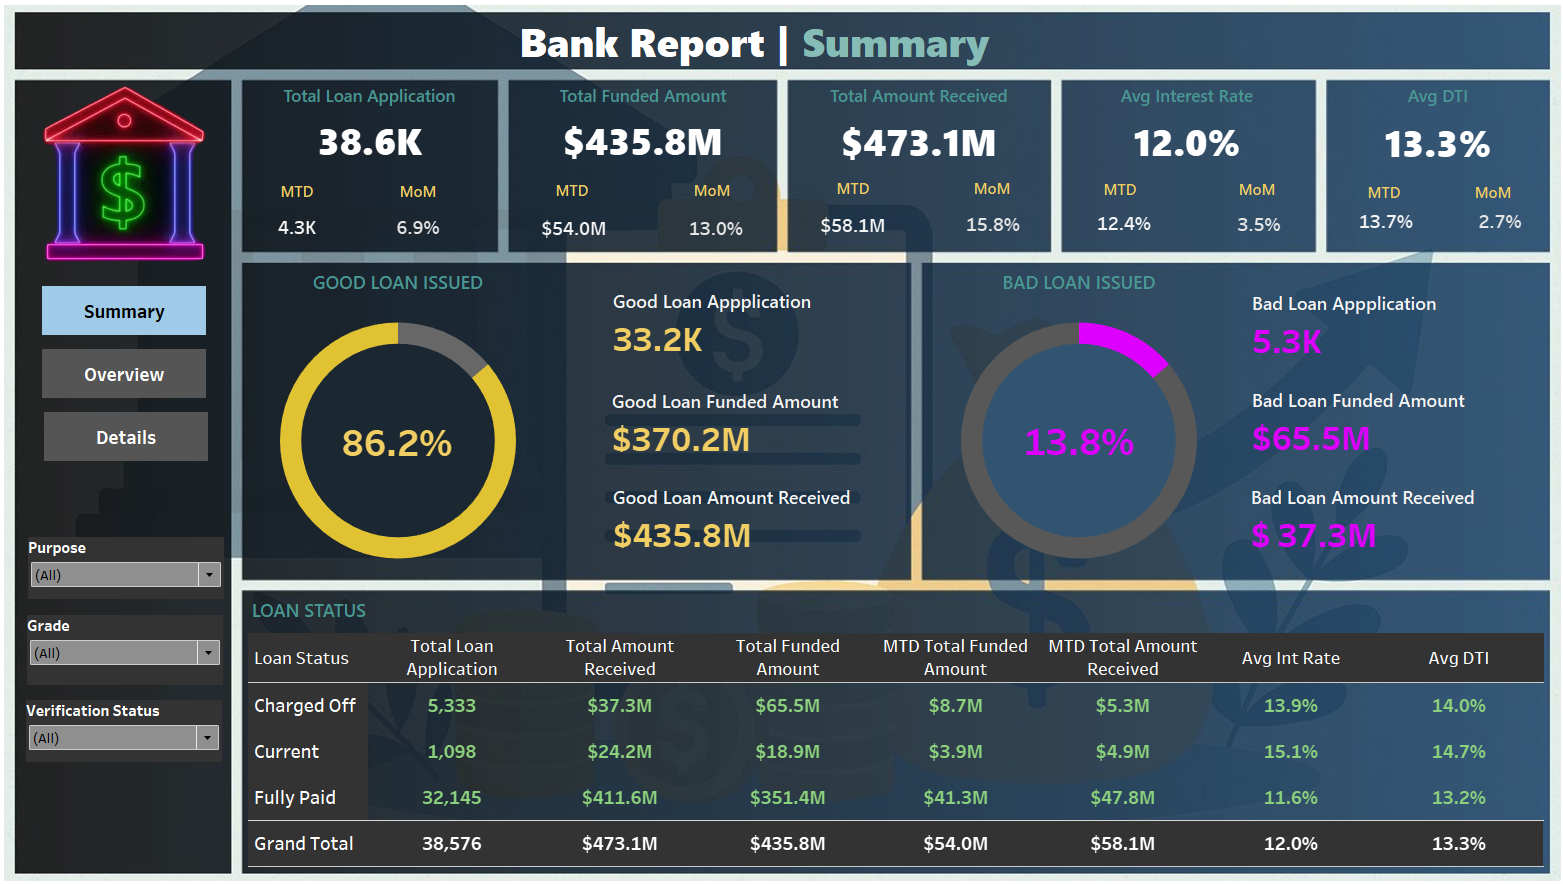

The dashboard page shown, as its layout file describes it:
{"tool":"tableau","page":{"name":"SUMMARY","canvas":[1600,900],"ordinal":2},"visuals":[{"type":"image","param":"Image/My Background Layout 1.jpg","box":[8,8,1584,884]},{"type":"text","box":[533,23,488,50]},{"type":"worksheet","title":"Total Loan Application","mark":"Automatic","box":[259,87,255,82]},{"type":"worksheet","title":"Total Funded Amount","mark":"Automatic","box":[526,87,268,82]},{"type":"worksheet","title":"Total Amount Received","mark":"Automatic","box":[805,87,262,83]},{"type":"worksheet","title":"Avg Interest Rate","mark":"Automatic","box":[1079,87,250,84]},{"type":"worksheet","title":"Avg DTI","mark":"Automatic","box":[1344,87,222,85]},{"type":"image","param":"Image/Adobe Express - file 1.png","box":[38,92,204,194]},{"type":"text","box":[820,180,100,30]},{"type":"text","box":[959,180,100,30]},{"type":"text","box":[1087,181,100,30]},{"type":"text","box":[1224,181,100,30]},{"type":"text","box":[539,182,100,30]},{"type":"text","box":[679,182,100,30]},{"type":"text","box":[264,183,100,30]},{"type":"text","box":[385,183,100,30]},{"type":"text","box":[1351,184,100,30]},{"type":"text","box":[1460,184,100,30]},{"type":"worksheet","title":"MTD Avg DTI","mark":"Automatic","box":[1369,203,67,49]},{"type":"worksheet","title":"MTD Avg Interest Rate","mark":"Automatic","box":[1105,205,72,49]},{"type":"worksheet","title":"MoM Avg DTI","mark":"Automatic","box":[1486,205,63,46]},{"type":"worksheet","title":"MoM Total Amount Received","mark":"Automatic","box":[970,207,79,48]},{"type":"worksheet","title":"MTD Total Amount Received","mark":"Automatic","box":[831,208,78,47]},{"type":"worksheet","title":"MoM Avg Interest Rate","mark":"Automatic","box":[1237,209,77,43]},{"type":"worksheet","title":"MTD Total Loan Application","mark":"Automatic","box":[280,211,67,46]},{"type":"worksheet","title":"MTD Total Funded Amount","mark":"Automatic","box":[554,212,73,45]},{"type":"worksheet","title":"MoM Loan Application","mark":"Automatic","box":[406,213,57,42]},{"type":"worksheet","title":"MoM Total Funded Amount","mark":"Automatic","box":[699,213,68,44]},{"type":"worksheet","title":"Good Loan Issued","mark":"Pie","rows":["Calculation_1628614280225505281","Calculation_1628614280225505281"],"box":[265,273,300,310]},{"type":"worksheet","title":"Bad Loan Issued","mark":"Pie","rows":["Calculation_1628614280225505281","Calculation_1628614280225505281"],"box":[946,273,300,310]},{"type":"worksheet","title":"Good Loan Appplication","mark":"Automatic","box":[622,288,300,75]},{"type":"worksheet","title":"Bad Loan Appplication","mark":"Automatic","box":[1261,290,300,75]},{"type":"dashboard-object","box":[59,293,164,49]},{"type":"dashboard-object","box":[59,356,164,49]},{"type":"worksheet","title":"Bad Loan Funded Amount","mark":"Automatic","box":[1261,387,300,75]},{"type":"worksheet","title":"Good Loan Funded Amount","mark":"Automatic","box":[621,388,300,75]},{"type":"worksheet","title":"Good Loan Application %","mark":"Automatic","box":[342,402,144,91]},{"type":"worksheet","title":"Bad Loan Application %","mark":"Automatic","box":[1021,404,149,86]},{"type":"dashboard-object","box":[61,419,164,49]},{"type":"worksheet","title":"Good Loan Amount Received","mark":"Automatic","box":[622,484,300,75]},{"type":"worksheet","title":"Bad Loan Amount Received","mark":"Automatic","box":[1260,484,300,75]},{"type":"filter","title":"Good Loan Issued","param":"[federated.0udsdu11p73yy70zzkvhk0izcd7r].[none:purpose:nk]","box":[45,544,196,62]},{"type":"worksheet","title":"LOAN STATUS","mark":"Automatic","rows":["loan_status"],"box":[265,601,1296,273]},{"type":"filter","title":"Good Loan Issued","param":"[federated.0udsdu11p73yy70zzkvhk0izcd7r].[none:grade:nk]","box":[44,622,196,70]},{"type":"filter","title":"Good Loan Issued","param":"[federated.0udsdu11p73yy70zzkvhk0izcd7r].[none:verification_status:nk]","box":[43,707,196,62]}]}

Visuals, with their boxes in screenshot pixels (x1, y1, x2, y2), scaled from the page's 1600x900 canvas onto the 1563x884 screenshot:
image: pyautogui.locateOnScreen(8, 8, 1555, 876)
text: pyautogui.locateOnScreen(521, 23, 997, 72)
"Total Loan Application" worksheet: pyautogui.locateOnScreen(253, 85, 502, 166)
"Total Funded Amount" worksheet: pyautogui.locateOnScreen(514, 85, 776, 166)
"Total Amount Received" worksheet: pyautogui.locateOnScreen(786, 85, 1042, 167)
"Avg Interest Rate" worksheet: pyautogui.locateOnScreen(1054, 85, 1298, 168)
"Avg DTI" worksheet: pyautogui.locateOnScreen(1313, 85, 1530, 169)
image: pyautogui.locateOnScreen(37, 90, 236, 281)
text: pyautogui.locateOnScreen(801, 177, 899, 206)
text: pyautogui.locateOnScreen(937, 177, 1035, 206)
text: pyautogui.locateOnScreen(1062, 178, 1160, 207)
text: pyautogui.locateOnScreen(1196, 178, 1293, 207)
text: pyautogui.locateOnScreen(527, 179, 624, 208)
text: pyautogui.locateOnScreen(663, 179, 761, 208)
text: pyautogui.locateOnScreen(258, 180, 356, 209)
text: pyautogui.locateOnScreen(376, 180, 474, 209)
text: pyautogui.locateOnScreen(1320, 181, 1417, 210)
text: pyautogui.locateOnScreen(1426, 181, 1524, 210)
"MTD Avg DTI" worksheet: pyautogui.locateOnScreen(1337, 199, 1403, 248)
"MTD Avg Interest Rate" worksheet: pyautogui.locateOnScreen(1079, 201, 1150, 249)
"MoM Avg DTI" worksheet: pyautogui.locateOnScreen(1452, 201, 1513, 247)
"MoM Total Amount Received" worksheet: pyautogui.locateOnScreen(948, 203, 1025, 250)
"MTD Total Amount Received" worksheet: pyautogui.locateOnScreen(812, 204, 888, 250)
"MoM Avg Interest Rate" worksheet: pyautogui.locateOnScreen(1208, 205, 1284, 248)
"MTD Total Loan Application" worksheet: pyautogui.locateOnScreen(274, 207, 339, 252)
"MTD Total Funded Amount" worksheet: pyautogui.locateOnScreen(541, 208, 613, 252)
"MoM Loan Application" worksheet: pyautogui.locateOnScreen(397, 209, 452, 250)
"MoM Total Funded Amount" worksheet: pyautogui.locateOnScreen(683, 209, 749, 252)
"Good Loan Issued" worksheet (Pie marks): pyautogui.locateOnScreen(259, 268, 552, 573)
"Bad Loan Issued" worksheet (Pie marks): pyautogui.locateOnScreen(924, 268, 1217, 573)
"Good Loan Appplication" worksheet: pyautogui.locateOnScreen(608, 283, 901, 357)
"Bad Loan Appplication" worksheet: pyautogui.locateOnScreen(1232, 285, 1525, 359)
dashboard-object: pyautogui.locateOnScreen(58, 288, 218, 336)
dashboard-object: pyautogui.locateOnScreen(58, 350, 218, 398)
"Bad Loan Funded Amount" worksheet: pyautogui.locateOnScreen(1232, 380, 1525, 454)
"Good Loan Funded Amount" worksheet: pyautogui.locateOnScreen(607, 381, 900, 455)
"Good Loan Application %" worksheet: pyautogui.locateOnScreen(334, 395, 475, 484)
"Bad Loan Application %" worksheet: pyautogui.locateOnScreen(997, 397, 1143, 481)
dashboard-object: pyautogui.locateOnScreen(60, 412, 220, 460)
"Good Loan Amount Received" worksheet: pyautogui.locateOnScreen(608, 475, 901, 549)
"Bad Loan Amount Received" worksheet: pyautogui.locateOnScreen(1231, 475, 1524, 549)
"Good Loan Issued" filter: pyautogui.locateOnScreen(44, 534, 235, 595)
"LOAN STATUS" worksheet: pyautogui.locateOnScreen(259, 590, 1525, 858)
"Good Loan Issued" filter: pyautogui.locateOnScreen(43, 611, 234, 680)
"Good Loan Issued" filter: pyautogui.locateOnScreen(42, 694, 233, 755)
